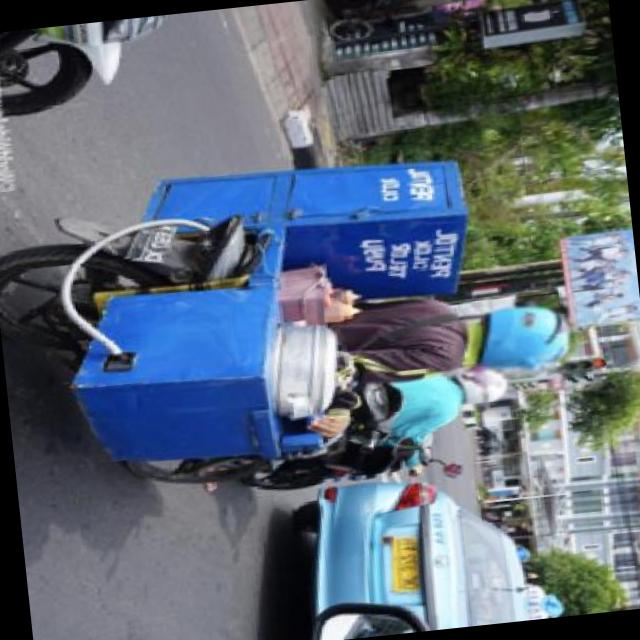With Helmet: (460, 292, 578, 385), (442, 364, 509, 412)
